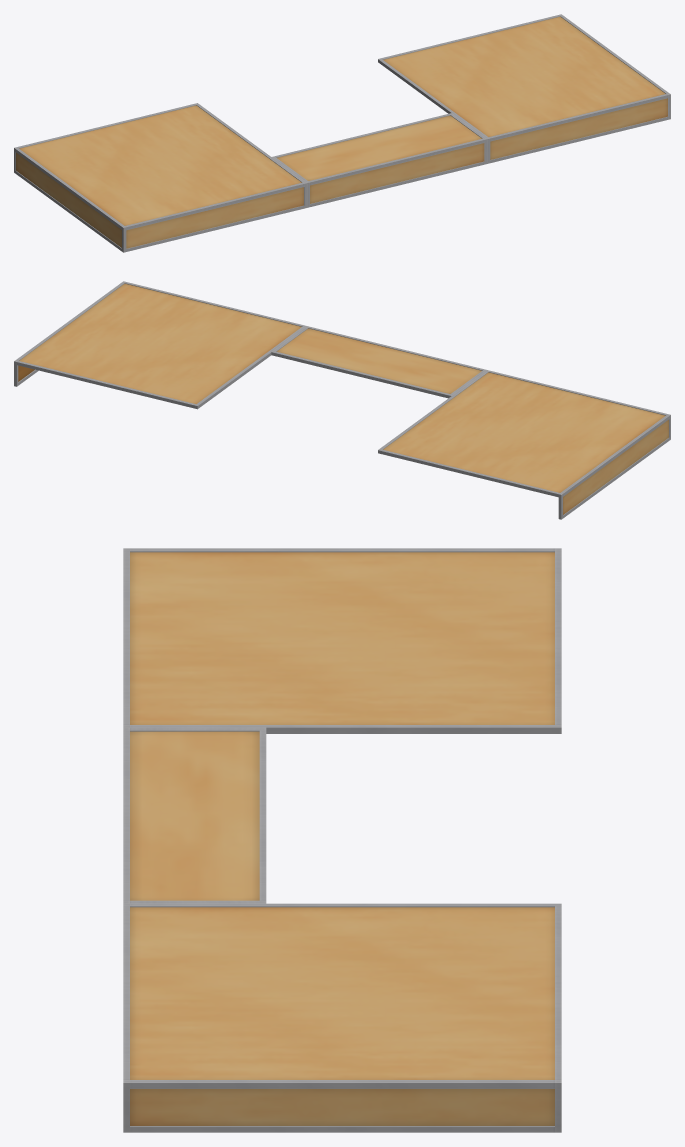
Rendered from jsf_2P_s03_c05_t02_DX.fbx.
3 renders of one model, top to bottom at view 1: azimuth 30°, elevation 25°; view 2: azimuth 150°, elevation 25°; view 3: azimuth 270°, elevation 25°, orthographic. The views are drawn at different scales.
Visible parts, largest first — view 1: jsf_2P_s03_c05_t02_DX; view 2: jsf_2P_s03_c05_t02_DX; view 3: jsf_2P_s03_c05_t02_DX.
Boxes of the visible parts, x1=… form: jsf_2P_s03_c05_t02_DX: x1=14, y1=14, x2=670, y2=252; jsf_2P_s03_c05_t02_DX: x1=14, y1=281, x2=670, y2=519; jsf_2P_s03_c05_t02_DX: x1=123, y1=548, x2=561, y2=1132.
Size of the model in its own units: 289 by 12.51 by 100.
